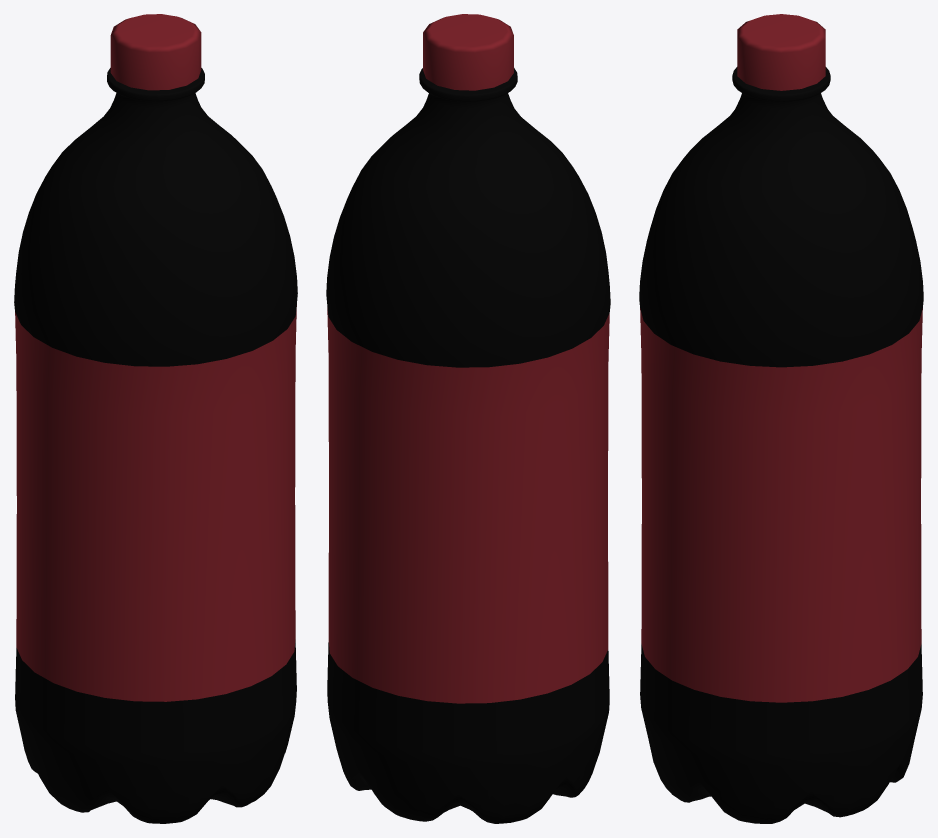
File: cola_bottle.fbx
3 renders of one model, left to right at view 1: azimuth 30°, elevation 25°; view 2: azimuth 150°, elevation 25°; view 3: azimuth 270°, elevation 25°, orthographic.
Parts seen in each view (by area): view 1: pCylinder36; view 2: pCylinder36; view 3: pCylinder36.
Boxes of the visible parts, box(x1,y1,x2,y2) form: pCylinder36: box(14, 14, 297, 823); pCylinder36: box(326, 14, 610, 823); pCylinder36: box(639, 14, 923, 823).
Bounding box in the file's own units: 3.57 × 10.34 × 3.57.
